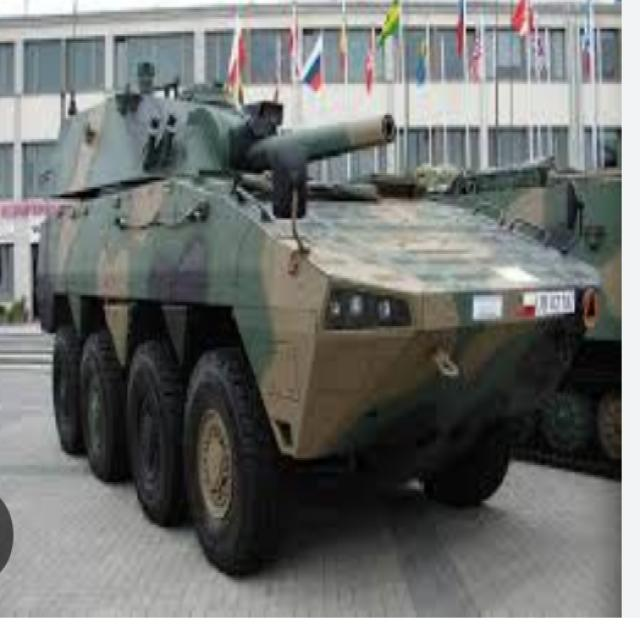MIL_APC: (29, 48, 599, 575)
